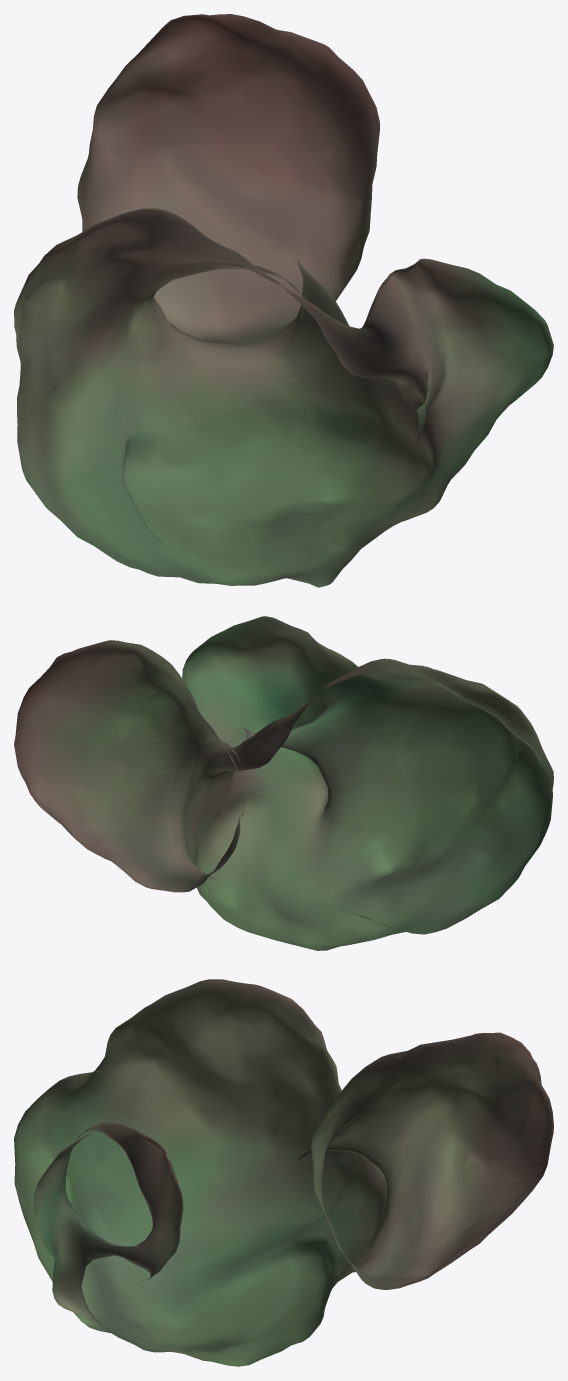
Rendered from Cloud1_LOD2.glb.
3 renders of one model, top to bottom at view 1: azimuth 30°, elevation 25°; view 2: azimuth 150°, elevation 25°; view 3: azimuth 270°, elevation 25°, orthographic. The views are drawn at different scales.
Visible parts, largest first — view 1: Cloud1_LOD2; view 2: Cloud1_LOD2; view 3: Cloud1_LOD2.
Part boxes in pixels (left/top/right/bottom): Cloud1_LOD2: left=14, top=14, right=553, bottom=587; Cloud1_LOD2: left=14, top=616, right=553, bottom=950; Cloud1_LOD2: left=14, top=979, right=553, bottom=1366.
Size of the model in its own units: 0.8417 by 0.6817 by 0.9471.
